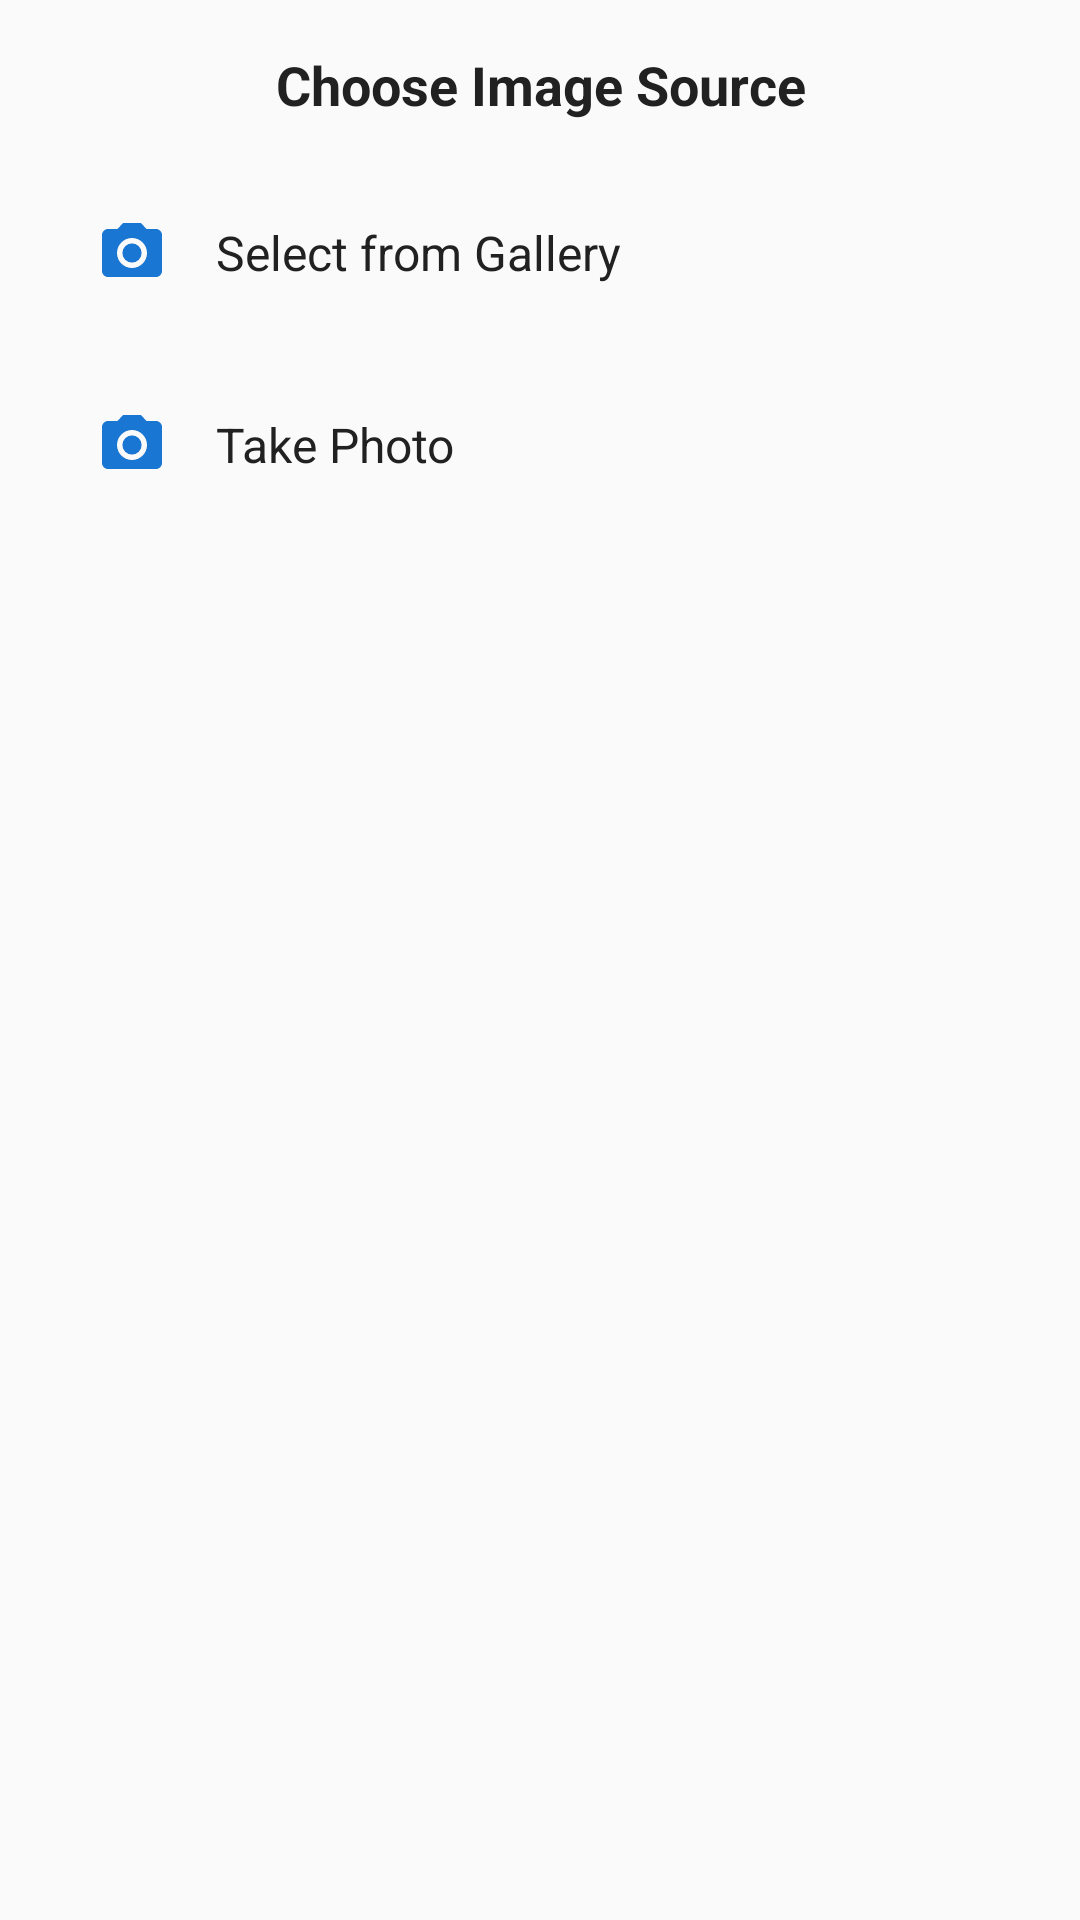

Icons on this 1080*1920 Android screen, each with the point to tap as (x,y):
Camera: (132,442)
